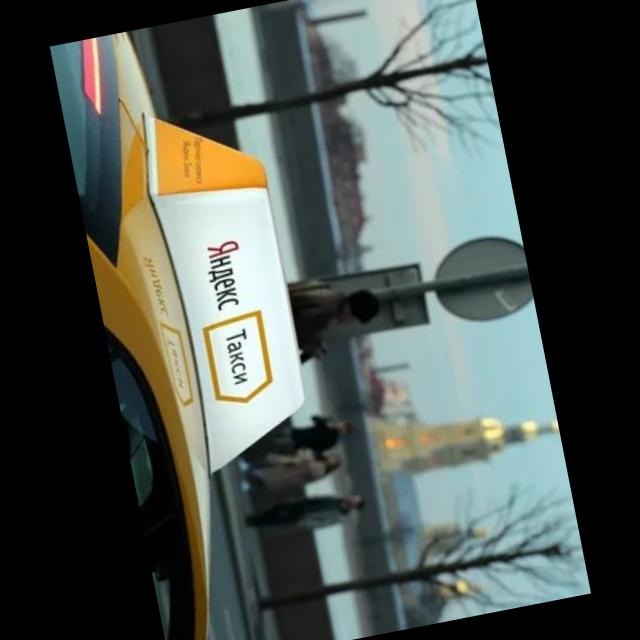taxi: (50, 11, 359, 640)
